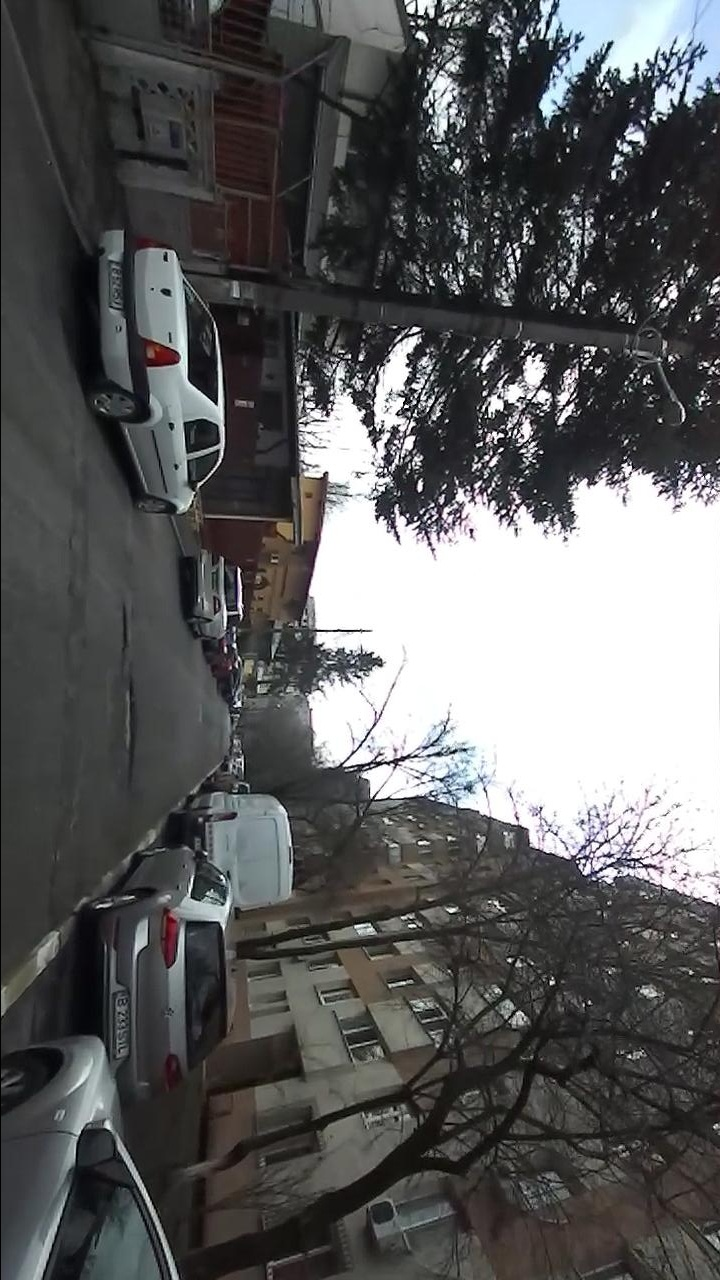pothole: (117, 676, 140, 791), (117, 601, 130, 658)
